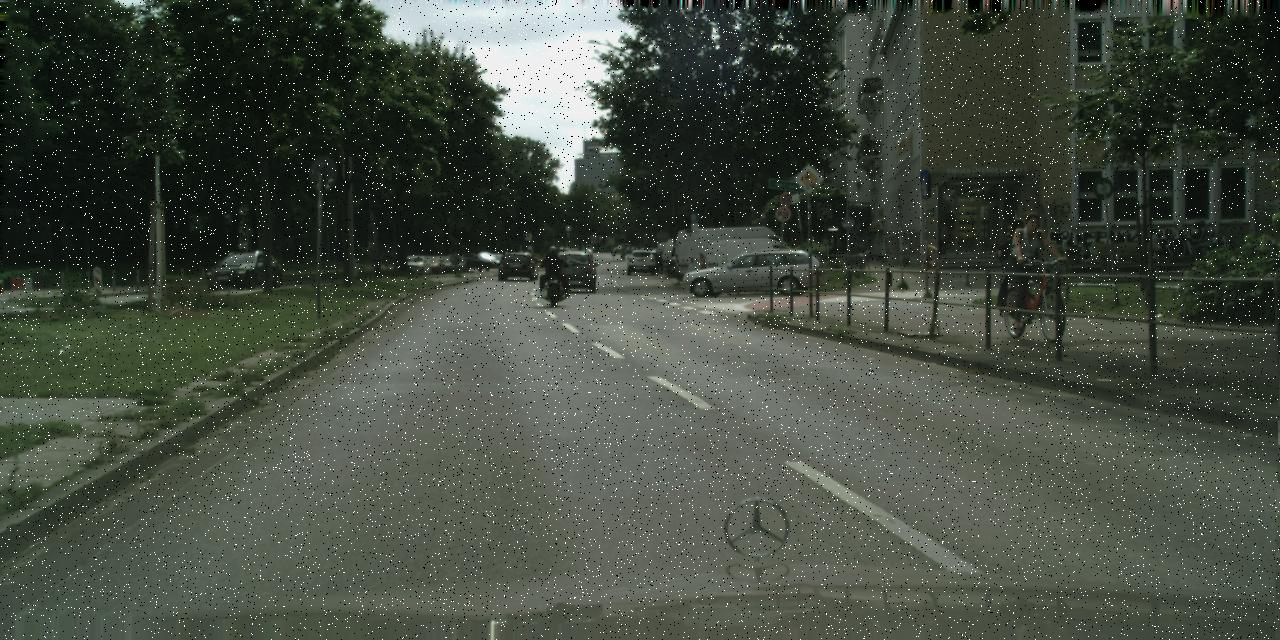ped: (1010, 212, 1050, 313), (544, 246, 564, 295)
